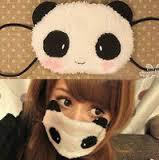OK: (47, 82, 122, 157)
